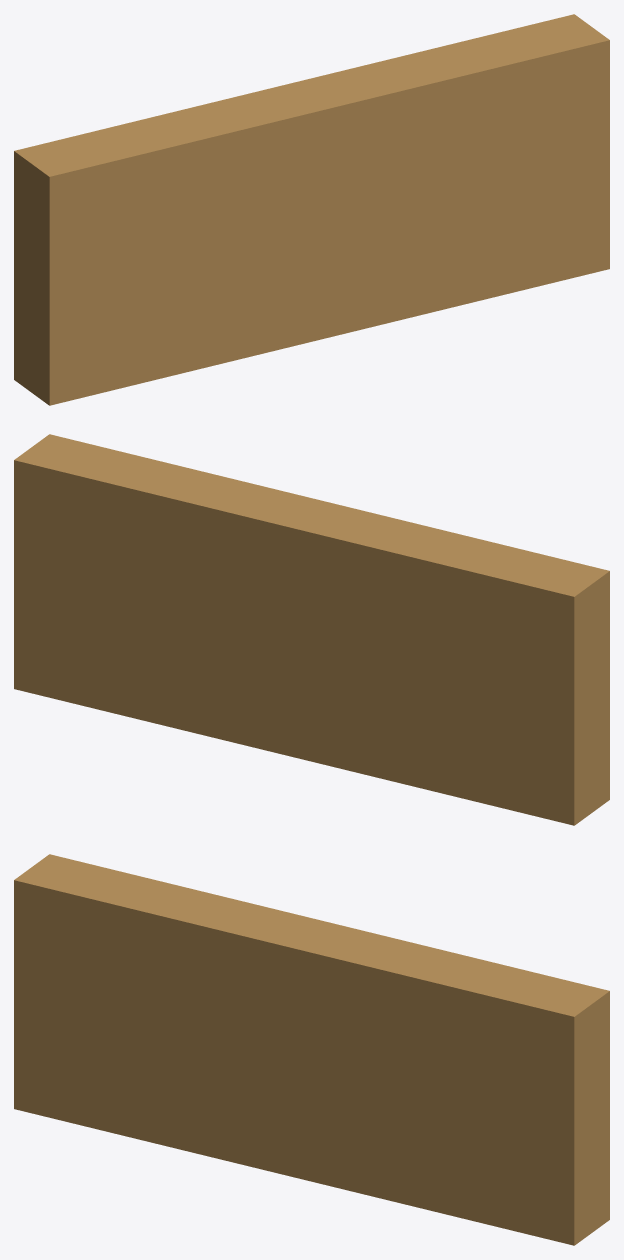
3 views of the same model, one above another, from view 1: azimuth 30°, elevation 25°; view 2: azimuth 150°, elevation 25°; view 3: azimuth 330°, elevation 25° (orthographic).
Visible parts, largest first — view 1: GAP-44-ENVELOPE; view 2: GAP-44-ENVELOPE; view 3: GAP-44-ENVELOPE.
Boxes of the visible parts, <box> form: GAP-44-ENVELOPE: <box>14,14,609,405</box>; GAP-44-ENVELOPE: <box>14,434,609,825</box>; GAP-44-ENVELOPE: <box>14,854,609,1245</box>.
Bounding box in the file's own units: 0.82 × 0.32 × 0.09.
